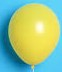Balloon: (7, 4, 60, 64)
